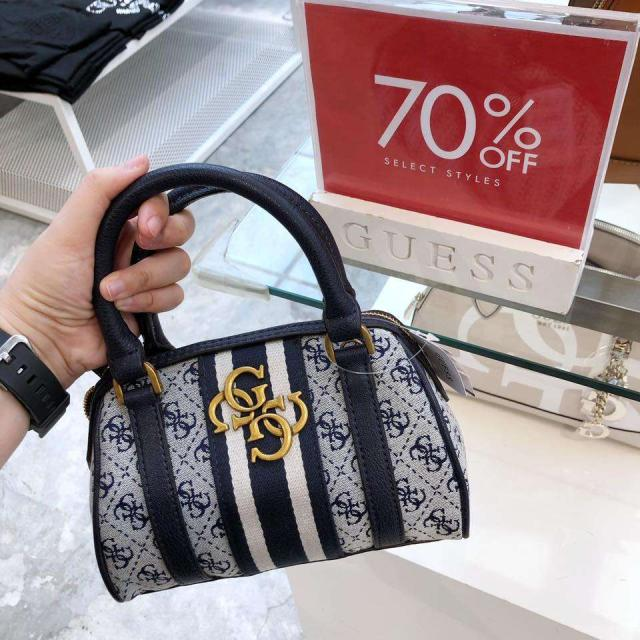Handbag: (79, 160, 472, 608)
